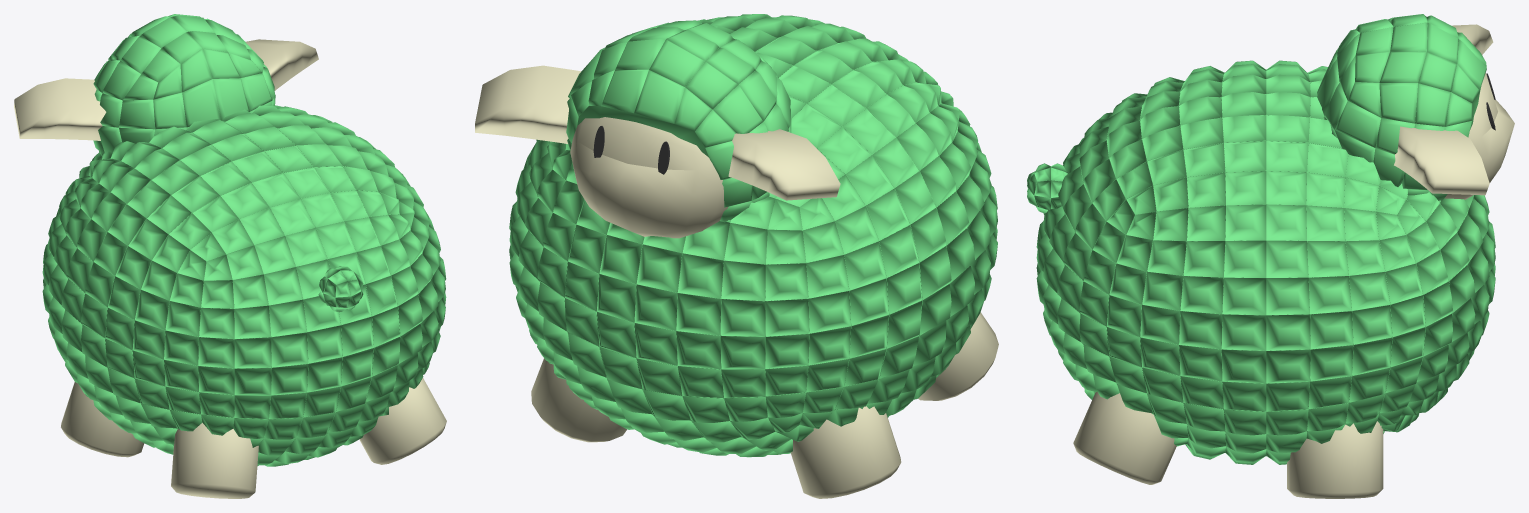
The model's file is Calm.glb.
3 views of the same model, side by side, from view 1: azimuth 30°, elevation 25°; view 2: azimuth 150°, elevation 25°; view 3: azimuth 270°, elevation 25° (orthographic). The views are drawn at different scales.
Parts seen in each view (by area): view 1: Body, Cube.001, Cylinder.003, Cube.002, Cylinder.001, Cylinder.002, Cube.003, Cube.004; view 2: Body, Cube.001, Cube, Cylinder.002, Cube.003, Cube.002, Cylinder, Cylinder.003; view 3: Body, Cube.001, Cylinder.001, Cylinder, Cube.003, Cube, Cube.004, Cube.002.
Part boxes in pixels (bbox=[...]): Body: bbox=[42, 105, 446, 466]; Cube.001: bbox=[93, 14, 275, 156]; Cylinder.003: bbox=[171, 423, 258, 498]; Cube.002: bbox=[14, 78, 106, 140]; Cylinder.001: bbox=[359, 378, 446, 464]; Cylinder.002: bbox=[61, 382, 144, 457]; Cube.003: bbox=[245, 39, 318, 90]; Cube.004: bbox=[318, 266, 363, 311]; Body: bbox=[509, 14, 997, 457]; Cube.001: bbox=[566, 20, 791, 222]; Cube: bbox=[570, 117, 728, 238]; Cylinder.002: bbox=[790, 406, 901, 498]; Cube.003: bbox=[475, 65, 580, 143]; Cube.002: bbox=[728, 129, 840, 200]; Cylinder: bbox=[531, 358, 626, 442]; Cylinder.003: bbox=[918, 312, 998, 400]; Body: bbox=[1036, 60, 1495, 464]; Cube.001: bbox=[1317, 14, 1486, 201]; Cylinder.001: bbox=[1073, 391, 1176, 484]; Cylinder: bbox=[1287, 421, 1383, 498]; Cube.003: bbox=[1394, 126, 1489, 195]; Cube: bbox=[1444, 73, 1514, 199]; Cube.004: bbox=[1027, 163, 1069, 213]; Cube.002: bbox=[1452, 24, 1493, 54].
Bounding box in the file's own units: 2.6 × 2.79 × 2.9.
